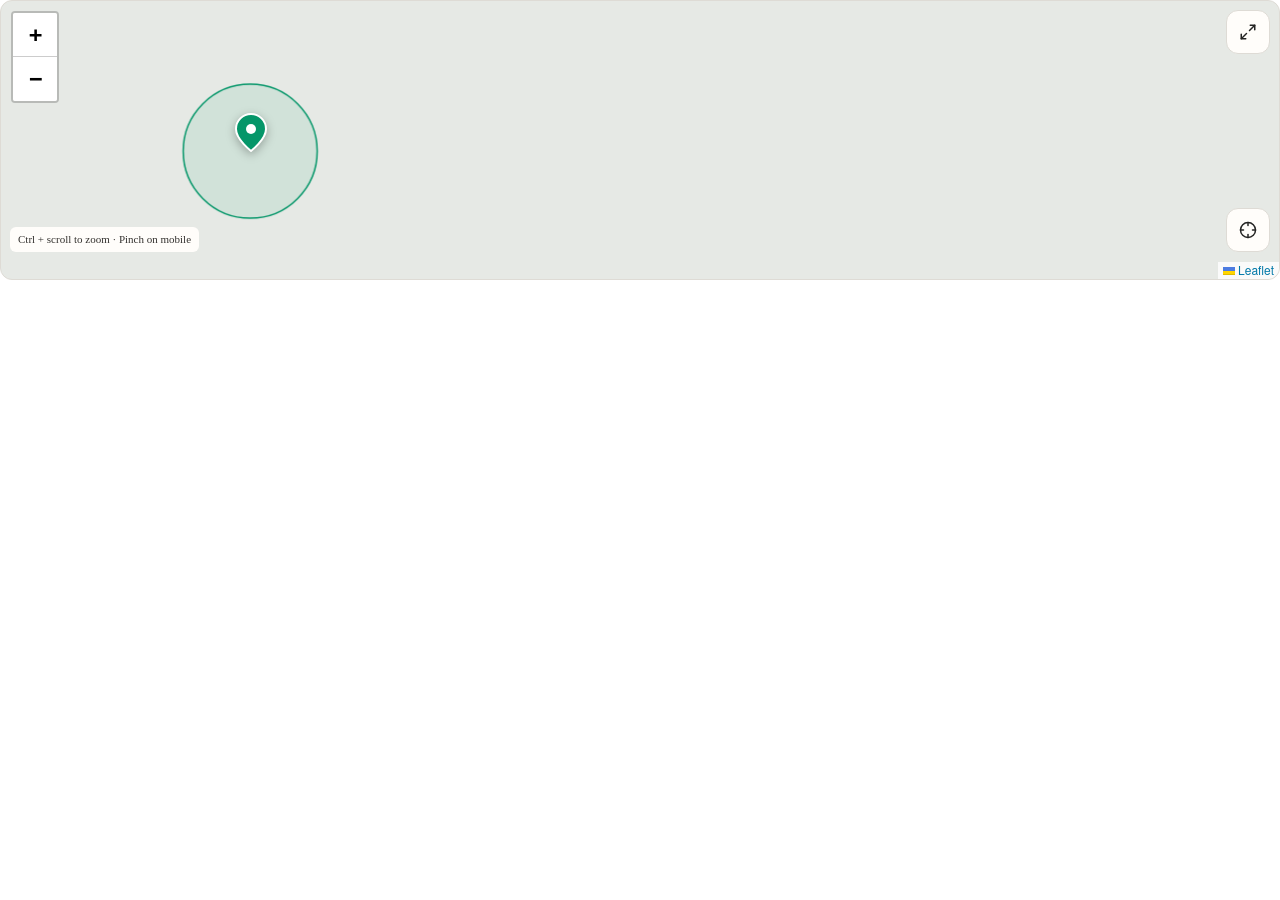
Test: location map lifecycle with real Leaflet › draws the selected kilometer radius around the pin in embedded and expanded maps
The width and height of the screenshot is (1280, 900).
Check: the element with class "leaflet-interactive" is shown, box 183,84 -> 317,218
What coordinates should you click on to do the following:
click the button named "Expand map to full screen"
I would click on:
 (1248, 32)
Its box is 1226,10 -> 1270,54.
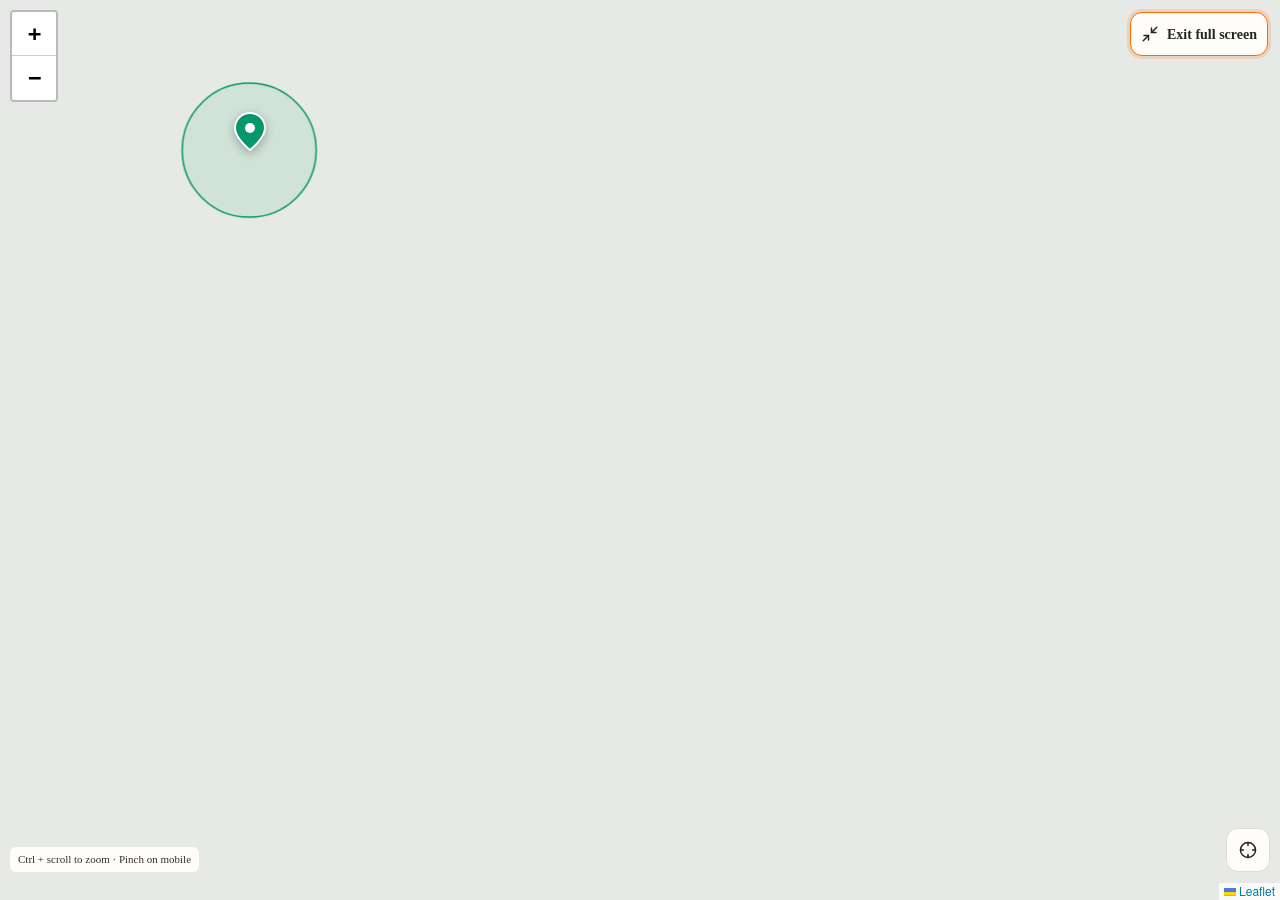
Check: the button named "Zoom in" is shown, box 12,12 -> 56,56
